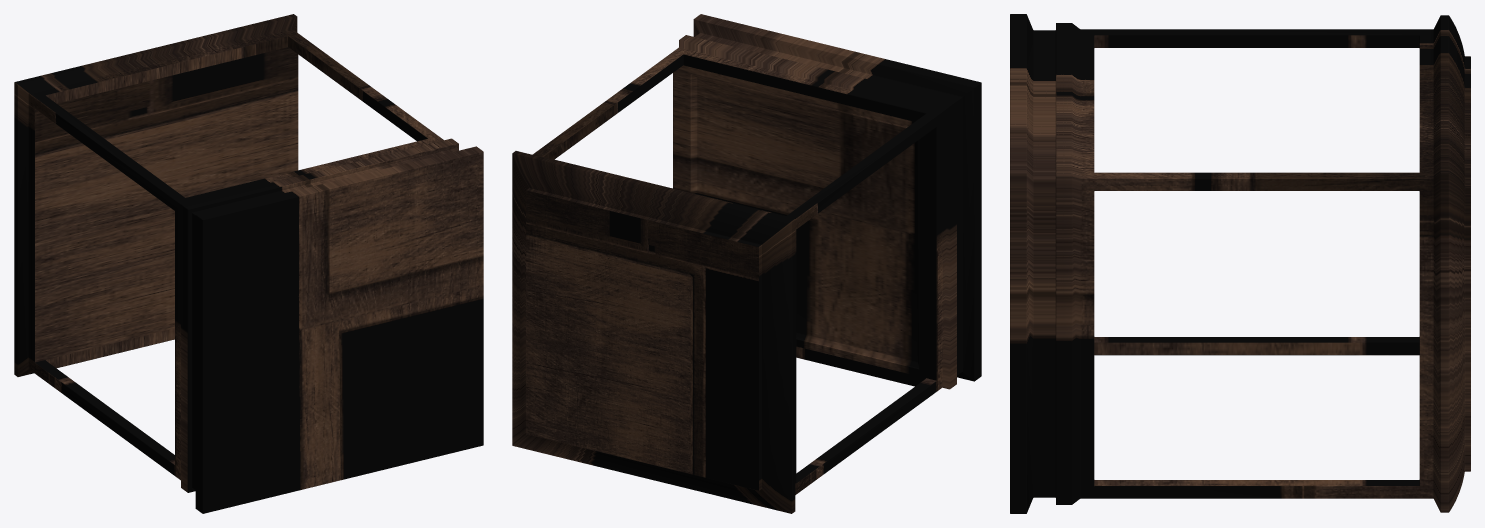
Rendered from Vitrine.fbx.
3 renders of one model, left to right at view 1: azimuth 30°, elevation 25°; view 2: azimuth 150°, elevation 25°; view 3: azimuth 270°, elevation 25°, orthographic. The views are drawn at different scales.
Parts seen in each view (by area): view 1: Vitrine; view 2: Vitrine; view 3: Vitrine.
Boxes of the visible parts, <box> form: Vitrine: <box>14,14,483,513</box>; Vitrine: <box>512,14,981,513</box>; Vitrine: <box>1010,14,1470,513</box>.
Bounding box in the file's own units: 213 × 213 × 261.
